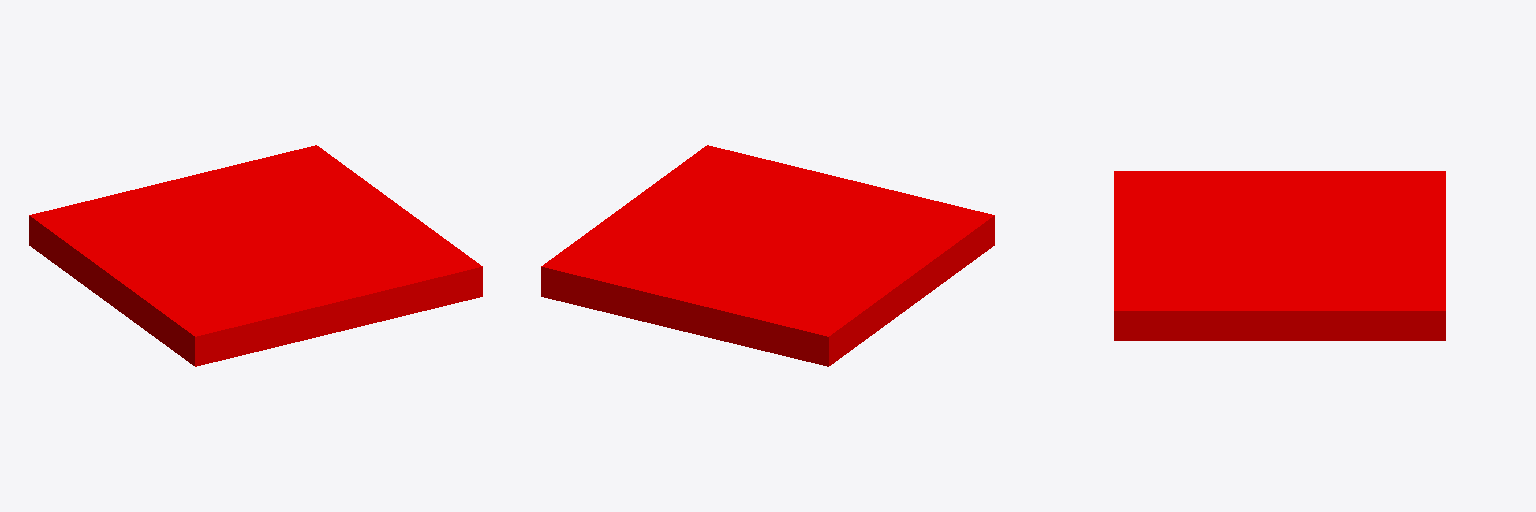
File: tiledFloor.obj
3 renders of one model, left to right at view 1: azimuth 30°, elevation 25°; view 2: azimuth 150°, elevation 25°; view 3: azimuth 270°, elevation 25°, orthographic.
Visible parts, largest first — view 1: Floor1.001_Cube.028; view 2: Floor1.001_Cube.028; view 3: Floor1.001_Cube.028.
Boxes of the visible parts, x1,y1,x2,y2 form: Floor1.001_Cube.028: [29, 145, 482, 366]; Floor1.001_Cube.028: [541, 145, 994, 366]; Floor1.001_Cube.028: [1114, 171, 1445, 340].
Bounding box in the file's own units: 1 × 0.1 × 1.